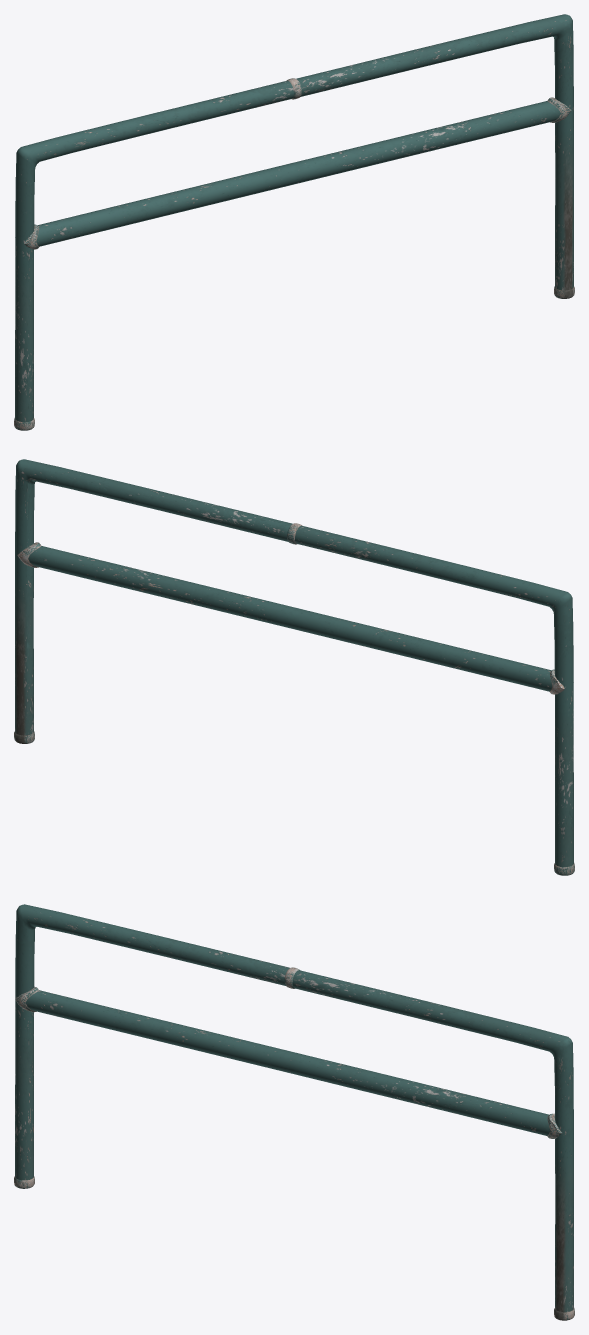
File: SM_Scaf_Handrail1_2X.glb
3 views of the same model, one above another, from view 1: azimuth 30°, elevation 25°; view 2: azimuth 150°, elevation 25°; view 3: azimuth 330°, elevation 25° (orthographic).
Parts seen in each view (by area): view 1: SM_Scaf_Handrail1_2X; view 2: SM_Scaf_Handrail1_2X; view 3: SM_Scaf_Handrail1_2X.
Part boxes in pixels (bbox=[...]): SM_Scaf_Handrail1_2X: bbox=[14, 14, 574, 430]; SM_Scaf_Handrail1_2X: bbox=[14, 459, 574, 875]; SM_Scaf_Handrail1_2X: bbox=[14, 904, 574, 1320].
Size of the model in its own units: 1.98 by 0.9577 by 0.0708.
1 material, 1 textured.
